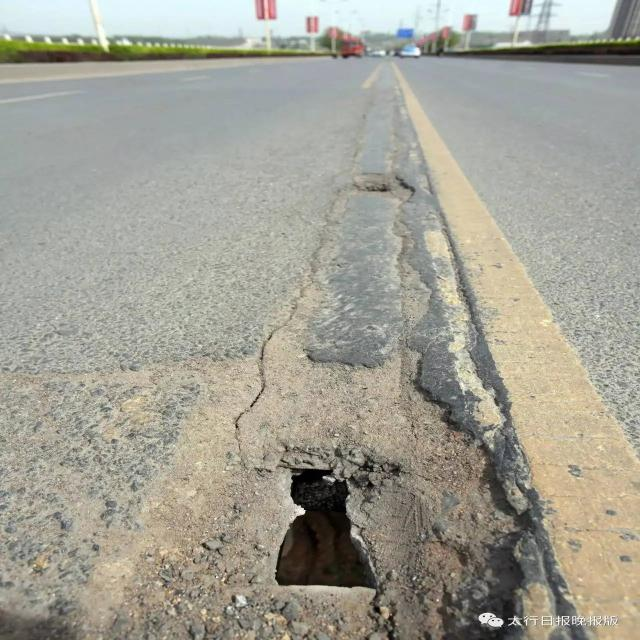Pothole: (124, 352, 534, 640), (337, 172, 427, 205)
